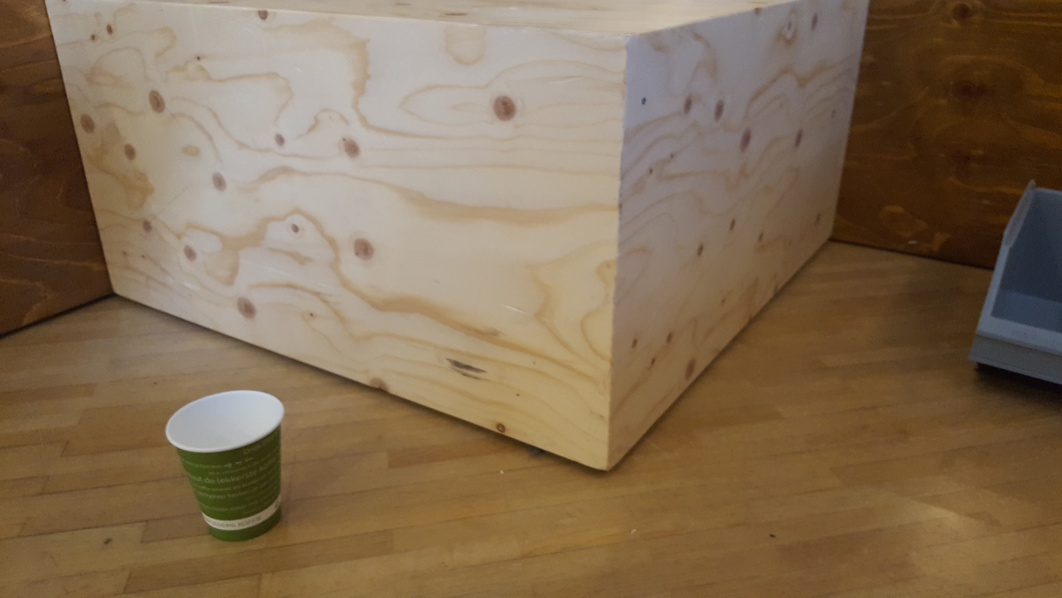cup: (165, 389, 288, 541)
